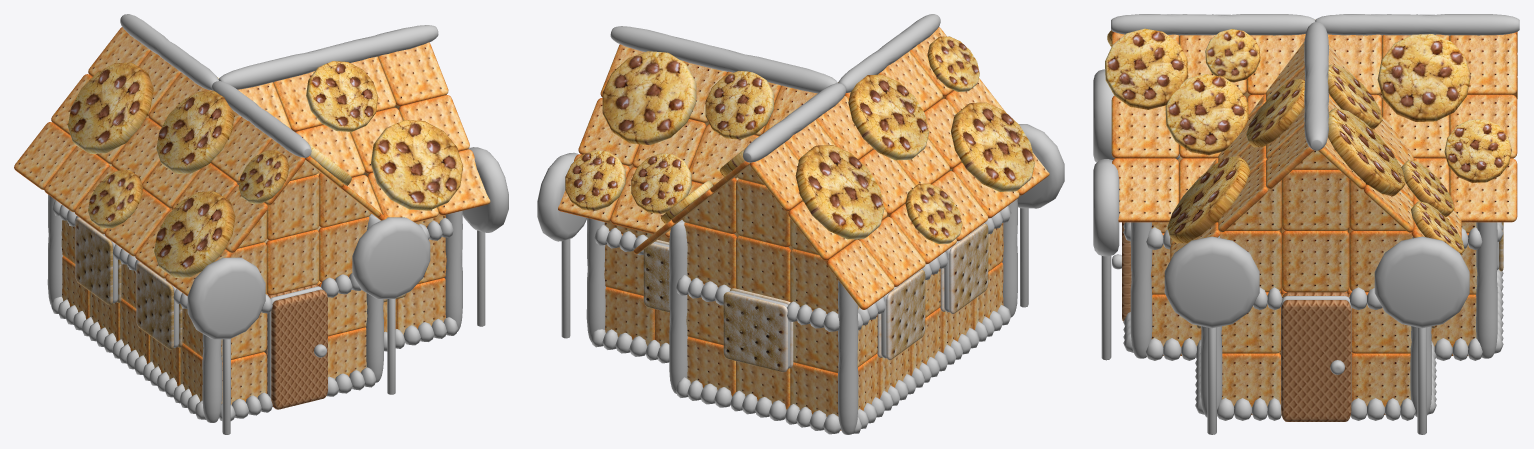
Rendered from cw_house_9.fbx.
3 views of the same model, side by side, from view 1: azimuth 30°, elevation 25°; view 2: azimuth 150°, elevation 25°; view 3: azimuth 270°, elevation 25° (orthographic). The views are drawn at different scales.
Parts seen in each view (by area): view 1: cw_house_9; view 2: cw_house_9; view 3: cw_house_9.
Part boxes in pixels (x1,y1,x2,y2): cw_house_9: [14, 14, 508, 434]; cw_house_9: [537, 14, 1064, 434]; cw_house_9: [1093, 14, 1519, 434].
Bounding box in the file's own units: 719 × 532 × 681.
